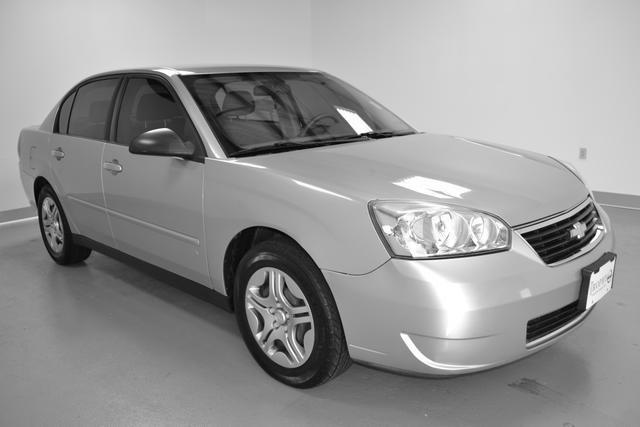car: (1, 53, 631, 399)
